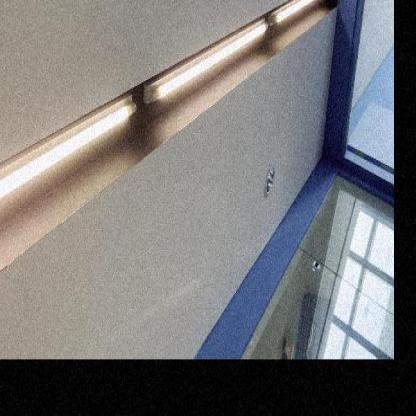light_on: (0, 84, 137, 226), (149, 11, 268, 133), (267, 0, 333, 31)
